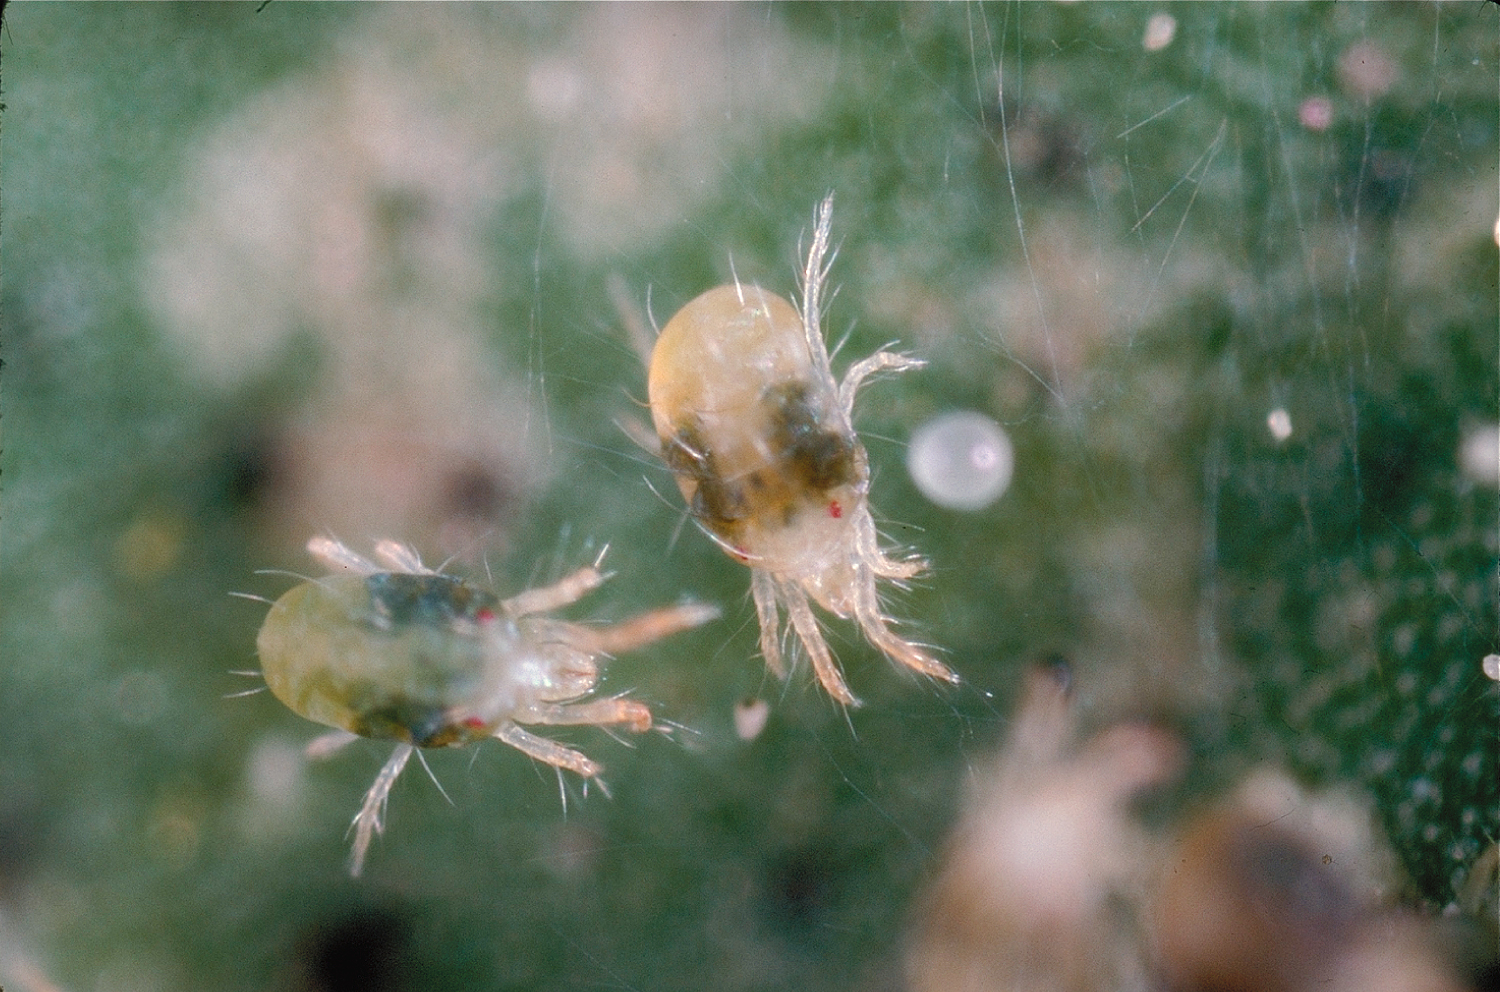Mites: (620, 261, 1023, 747), (165, 506, 680, 841)
